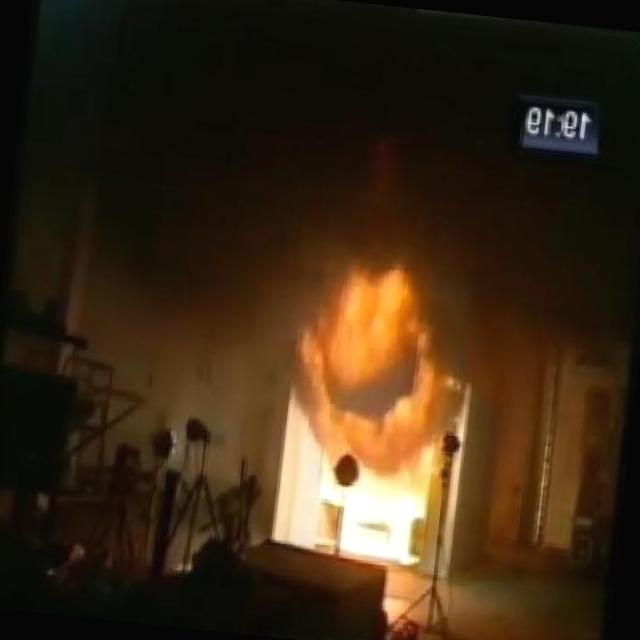fire: (270, 240, 462, 458)
